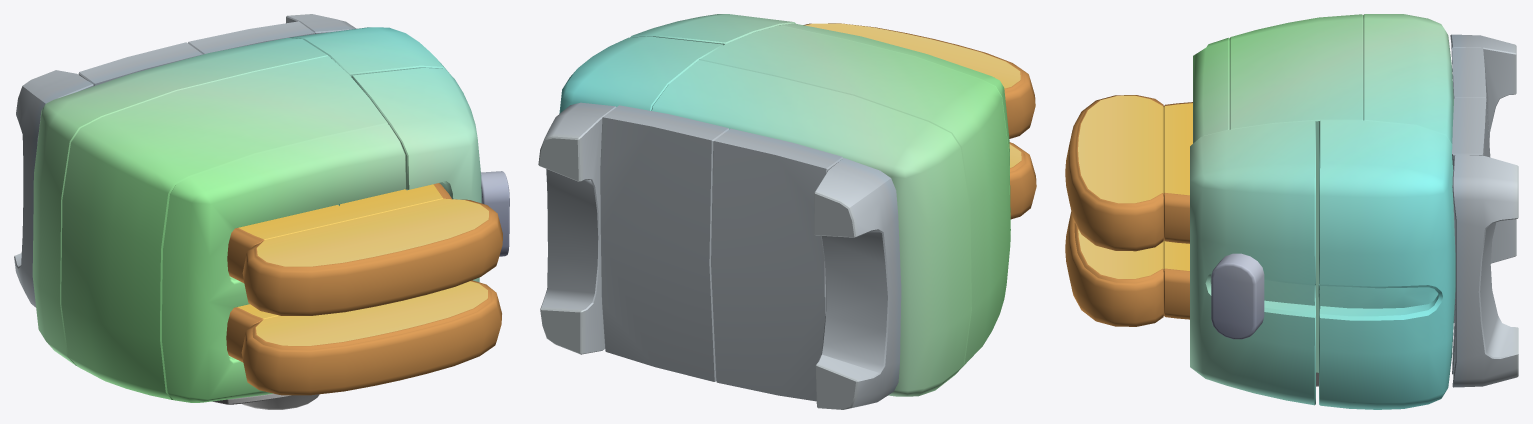
File: Level_192.fbx
3 views of the same model, side by side, from view 1: azimuth 30°, elevation 25°; view 2: azimuth 150°, elevation 25°; view 3: azimuth 270°, elevation 25° (orthographic). The views are drawn at different scales.
Parts seen in each view (by area): view 1: Cube_L3 4.005, Cube_L3 3.005, Cube_L1 3.010, Cube_L1 4.008, Cube_L3 2.005, Cube_L3 1.005, Cube_L1.011, Cube_L2 4.007, Cube_L3.006, Cube_L2 3.008, Cube_L2 1.008, Cube_L1 7.007 (+3 smaller); view 2: Cube_L3 2.005, Cube_L2 1.008, Cube_L2 3.008, Cube_L3 4.005, Cube_L2 4.007, Cube_L2.009, Cube_L3.006, Cube_L1 3.010, Cube_L3 1.005, Cube_L3 3.005, Cube_L1 4.008; view 3: Cube_L3.006, Cube_L3 1.005, Cube_L3 4.005, Cube_L1 3.010, Cube_L2.009, Cube_L3 2.005, Cube_L1 4.008, Cube_L1 7.007, Cube_L1.011, Cube_L2 4.007, Cube_L3 3.005, Cube_L2 1.008 (+2 smaller).
Boxes of the visible parts, bbox=[...] form: Cube_L3 4.005: bbox=[61, 56, 388, 399]; Cube_L3 3.005: bbox=[162, 124, 405, 402]; Cube_L1 3.010: bbox=[242, 198, 502, 315]; Cube_L1 4.008: bbox=[241, 280, 501, 395]; Cube_L3 2.005: bbox=[32, 38, 327, 365]; Cube_L3 1.005: bbox=[351, 68, 481, 282]; Cube_L1.011: bbox=[227, 183, 451, 282]; Cube_L2 4.007: bbox=[14, 70, 93, 307]; Cube_L3.006: bbox=[290, 27, 448, 76]; Cube_L2 3.008: bbox=[78, 42, 202, 85]; Cube_L2 1.008: bbox=[188, 21, 315, 54]; Cube_L1 7.007: bbox=[481, 171, 509, 256]; Cube_L3 2.005: bbox=[651, 60, 970, 396]; Cube_L2 1.008: bbox=[600, 105, 728, 381]; Cube_L2 3.008: bbox=[711, 128, 842, 401]; Cube_L3 4.005: bbox=[699, 25, 1010, 374]; Cube_L2 4.007: bbox=[814, 158, 901, 409]; Cube_L2.009: bbox=[538, 102, 616, 354]; Cube_L3.006: bbox=[559, 36, 723, 113]; Cube_L1 3.010: bbox=[803, 23, 1035, 138]; Cube_L3 1.005: bbox=[630, 14, 795, 45]; Cube_L3 3.005: bbox=[780, 23, 1010, 296]; Cube_L1 4.008: bbox=[1009, 142, 1036, 219]; Cube_L3.006: bbox=[1318, 120, 1455, 409]; Cube_L3 1.005: bbox=[1190, 120, 1315, 405]; Cube_L3 4.005: bbox=[1229, 14, 1363, 372]; Cube_L1 3.010: bbox=[1065, 95, 1163, 251]; Cube_L2.009: bbox=[1452, 155, 1518, 387]; Cube_L3 2.005: bbox=[1363, 14, 1453, 145]; Cube_L1 4.008: bbox=[1065, 211, 1163, 326]; Cube_L1 7.007: bbox=[1211, 253, 1264, 339]; Cube_L1.011: bbox=[1163, 102, 1192, 243]; Cube_L2 4.007: bbox=[1450, 34, 1516, 263]; Cube_L3 3.005: bbox=[1193, 37, 1229, 143]; Cube_L2 1.008: bbox=[1452, 97, 1490, 374].
Bounding box in the file's own units: 14.92 × 11.14 × 15.81.
